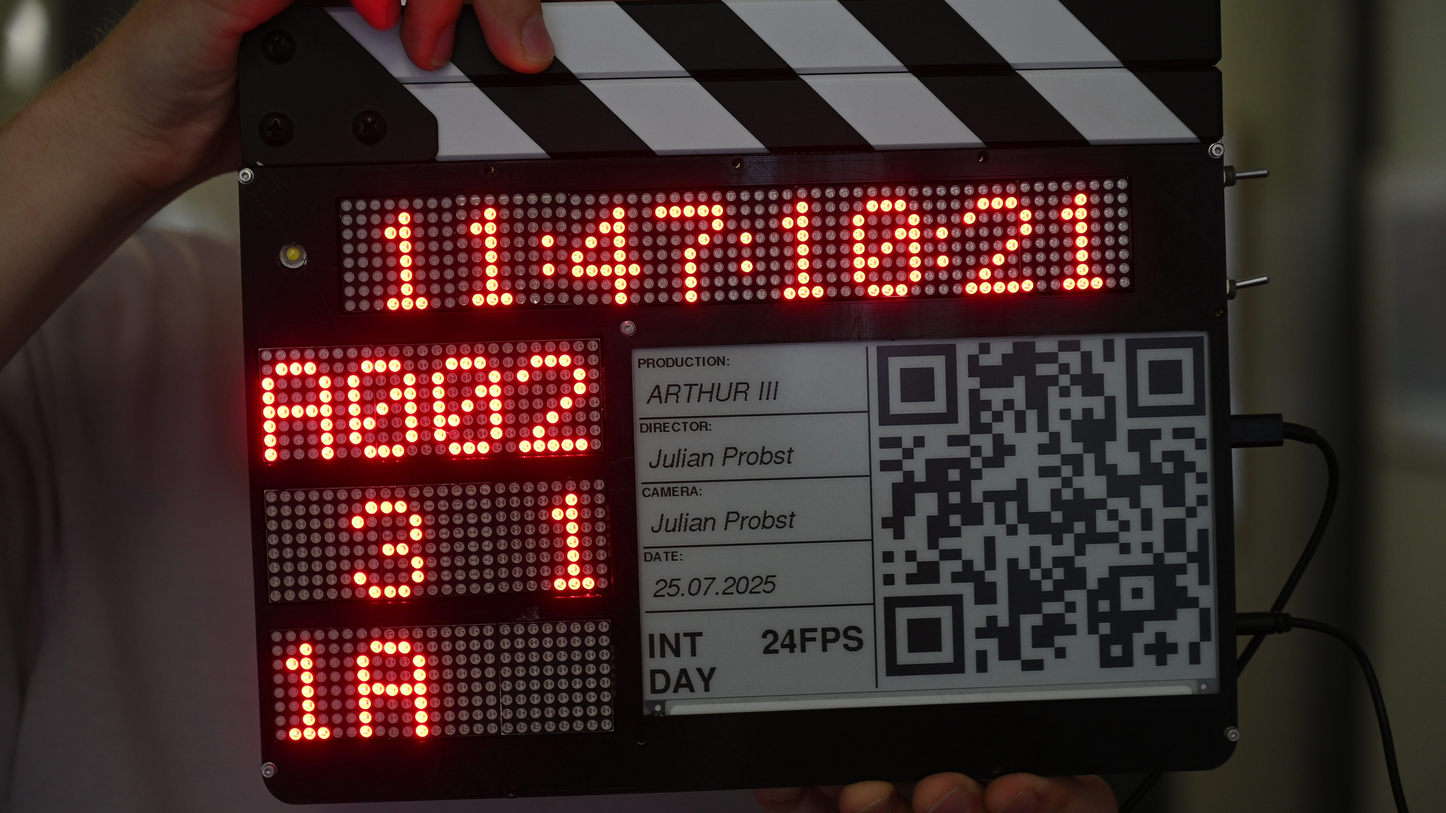ARC-SLATE: (235, 64, 1242, 808)
